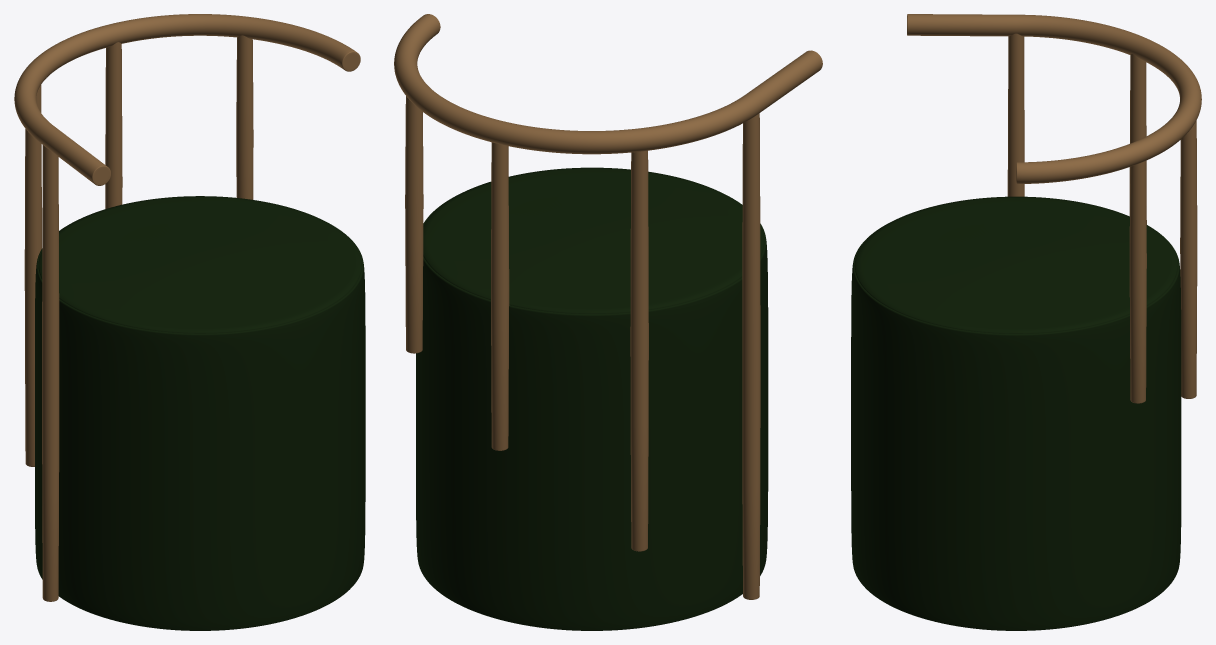
The model's file is Cylinder_Chair_.fbx.
3 renders of one model, left to right at view 1: azimuth 30°, elevation 25°; view 2: azimuth 150°, elevation 25°; view 3: azimuth 270°, elevation 25°, orthographic. The views are drawn at different scales.
Visible parts, largest first — view 1: Cylinder_Chair_006, Cylinder_Chair_007, Cylinder_Chair_001, Cylinder_Chair_002, Cylinder_Chair_003, Cylinder_Chair_005, Cylinder_Chair_004; view 2: Cylinder_Chair_006, Cylinder_Chair_007, Cylinder_Chair_001, Cylinder_Chair_002, Cylinder_Chair_003, Cylinder_Chair_004, Cylinder_Chair_005; view 3: Cylinder_Chair_006, Cylinder_Chair_007, Cylinder_Chair_001, Cylinder_Chair_004, Cylinder_Chair_005, Cylinder_Chair_002, Cylinder_Chair_003.
Part boxes in pixels (x1,y1,x2,y2): Cylinder_Chair_006: [35, 222, 365, 630]; Cylinder_Chair_007: [38, 196, 361, 333]; Cylinder_Chair_001: [14, 14, 360, 185]; Cylinder_Chair_002: [42, 145, 59, 601]; Cylinder_Chair_003: [24, 84, 41, 466]; Cylinder_Chair_005: [236, 35, 253, 199]; Cylinder_Chair_004: [105, 42, 122, 208]; Cylinder_Chair_006: [416, 195, 768, 630]; Cylinder_Chair_007: [423, 167, 764, 313]; Cylinder_Chair_001: [394, 14, 822, 154]; Cylinder_Chair_002: [742, 113, 760, 599]; Cylinder_Chair_003: [630, 150, 648, 551]; Cylinder_Chair_004: [491, 142, 509, 450]; Cylinder_Chair_005: [405, 96, 423, 353]; Cylinder_Chair_006: [851, 223, 1181, 630]; Cylinder_Chair_007: [854, 196, 1177, 333]; Cylinder_Chair_001: [907, 14, 1201, 183]; Cylinder_Chair_004: [1180, 120, 1197, 398]; Cylinder_Chair_005: [1129, 161, 1146, 403]; Cylinder_Chair_002: [1007, 33, 1024, 196]; Cylinder_Chair_003: [1129, 54, 1146, 224].
Bounding box in the file's own units: 0.8539 × 1.19 × 0.8032.
